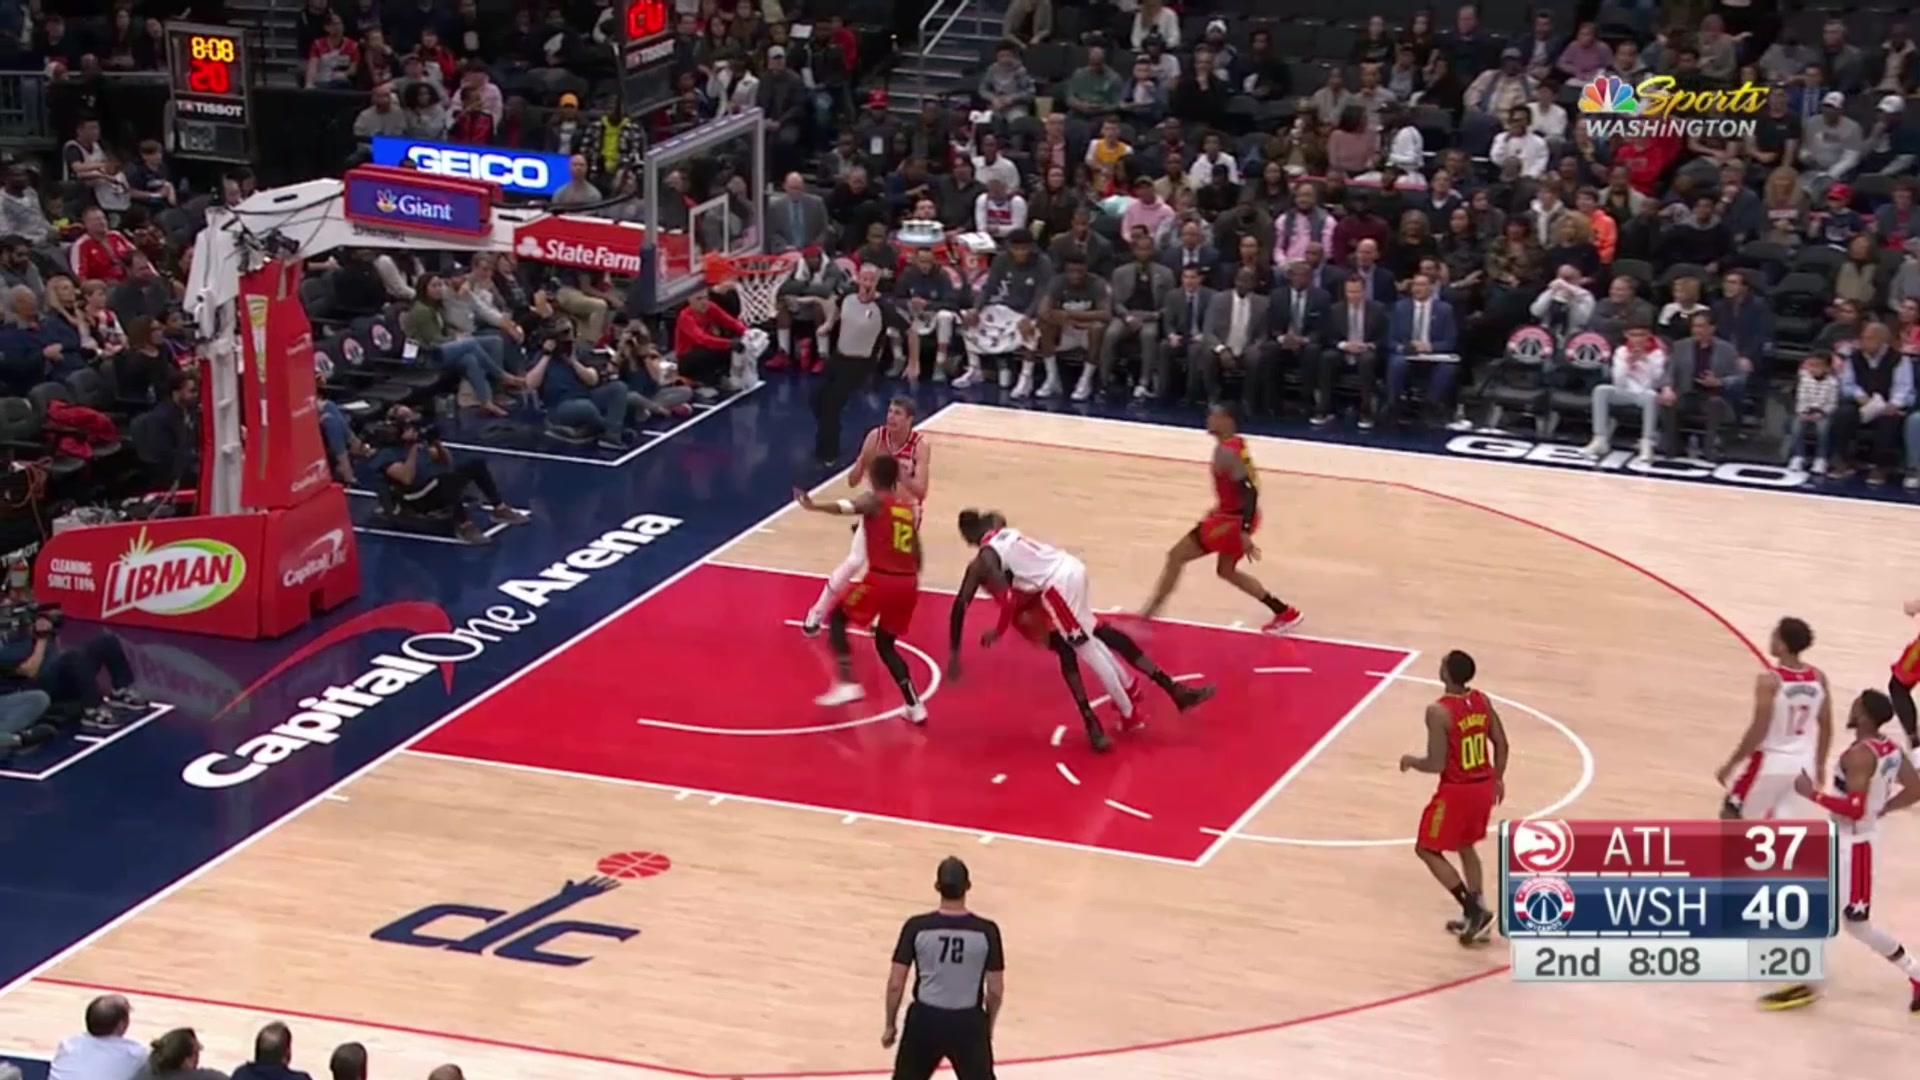foul: (951, 489, 1147, 749)
